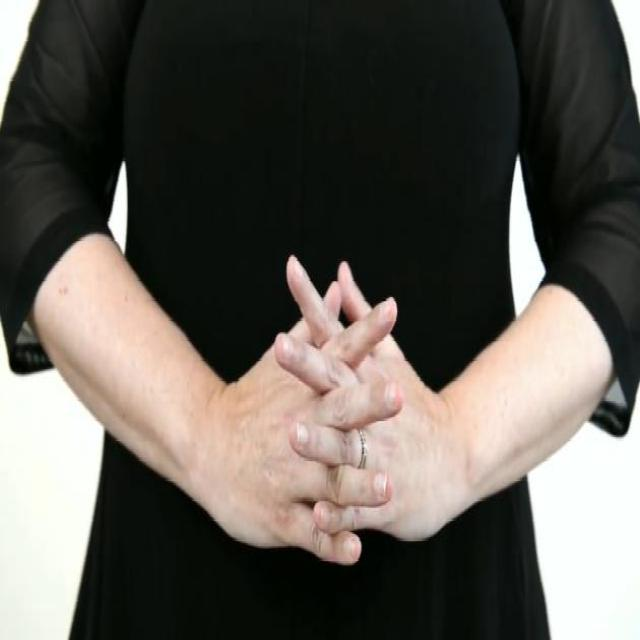W: (268, 247, 407, 572)
